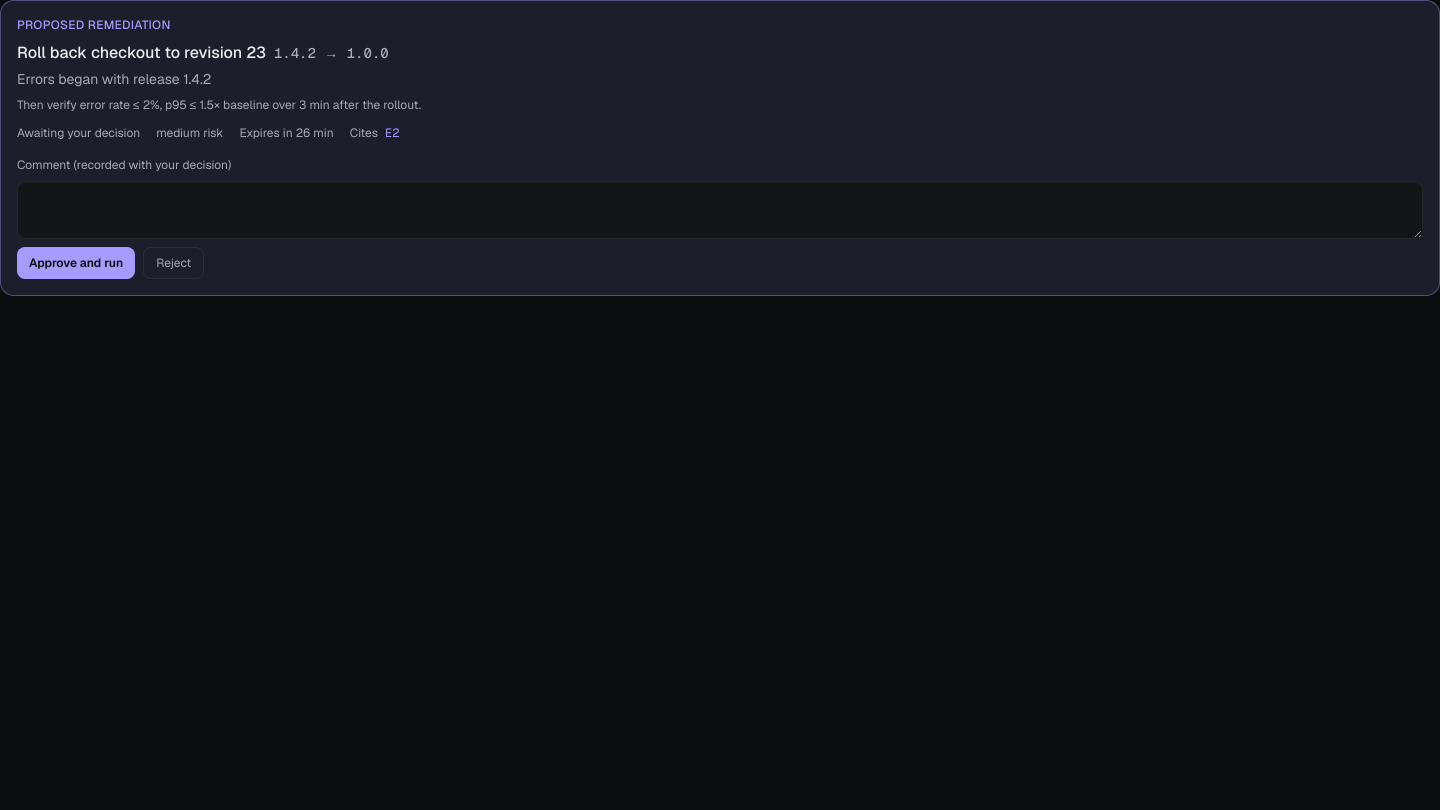
Test: RemediationReview › explains a refused decision
The width and height of the screenshot is (1440, 810).
Click the button "Reject" at (174, 263), box left=143, top=247, right=204, bottom=279
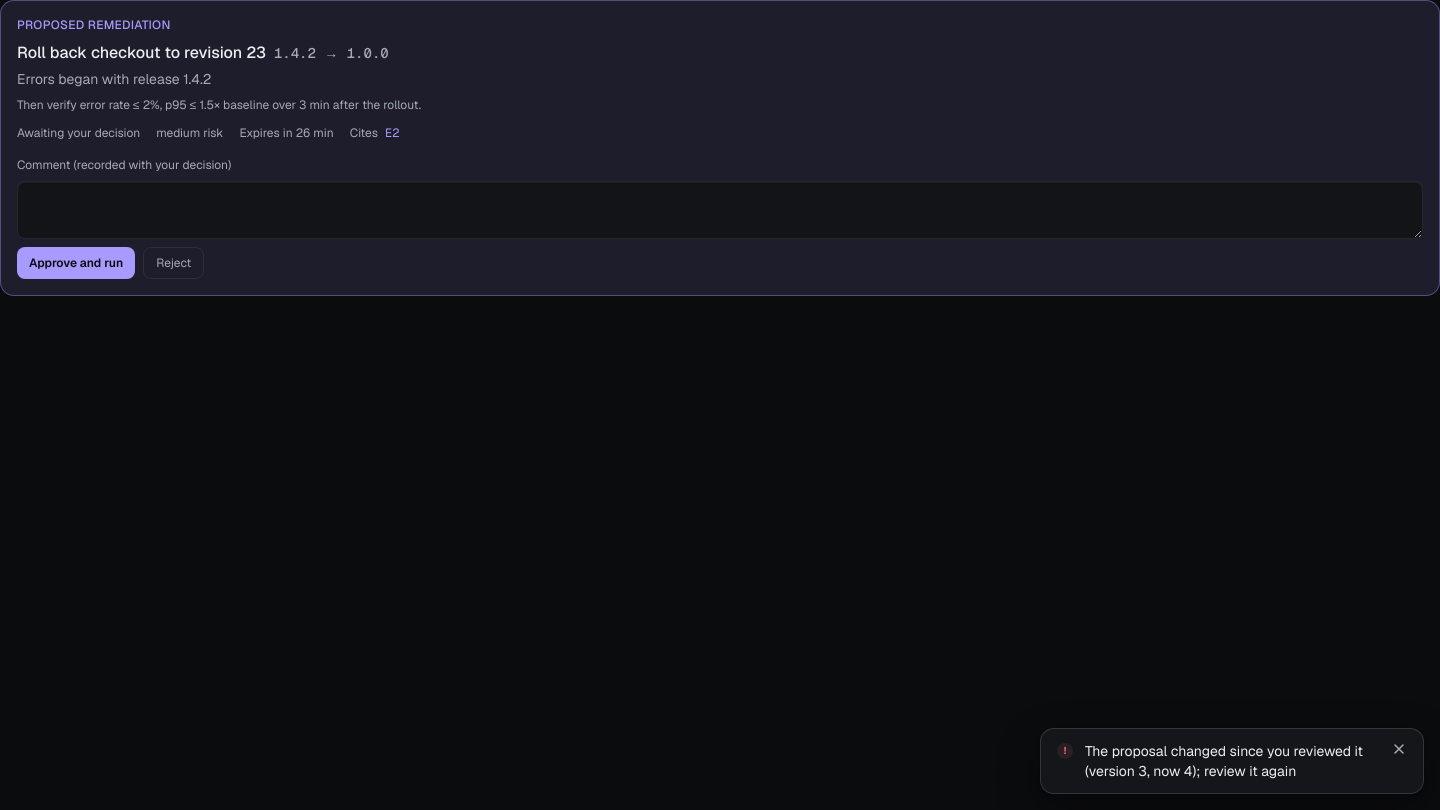
Check: the text "changed since you reviewed it" is shown, box left=1085, top=742, right=1363, bottom=780
